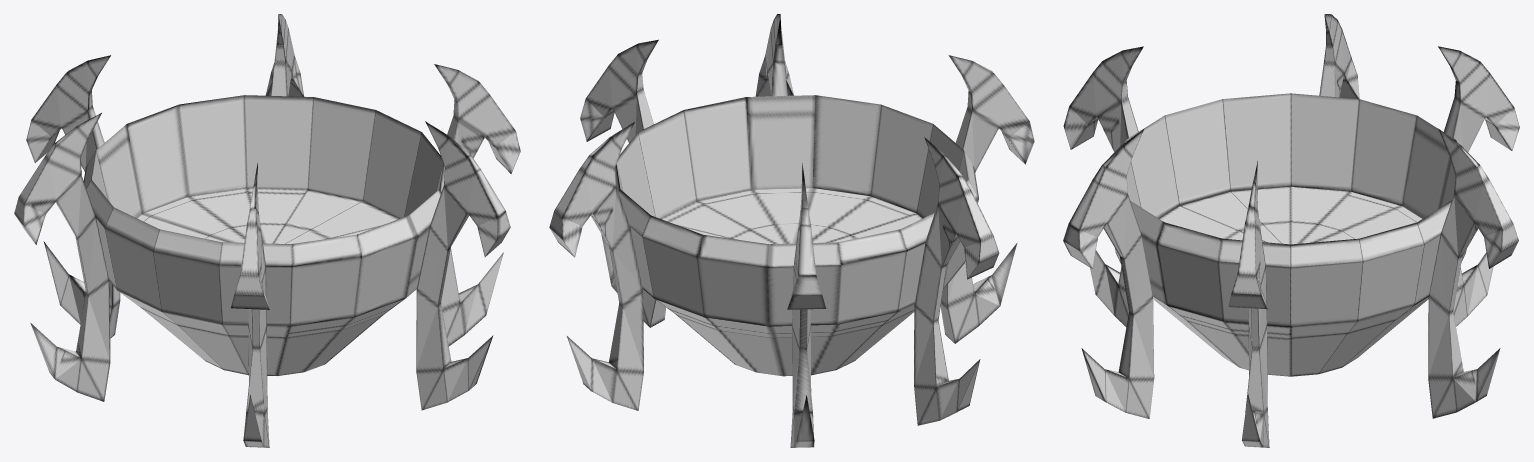
File: brazier.obj
3 views of the same model, side by side, from view 1: azimuth 30°, elevation 25°; view 2: azimuth 150°, elevation 25°; view 3: azimuth 270°, elevation 25° (orthographic).
Parts seen in each view (by area): view 1: Plane.005_Plane.007; view 2: Plane.005_Plane.007; view 3: Plane.005_Plane.007.
Part boxes in pixels (left/top/right/bottom): Plane.005_Plane.007: left=14, top=14, right=520, bottom=447; Plane.005_Plane.007: left=549, top=14, right=1034, bottom=447; Plane.005_Plane.007: left=1063, top=14, right=1519, bottom=447.
Bounding box in the file's own units: 2.77 × 1.67 × 2.41.
